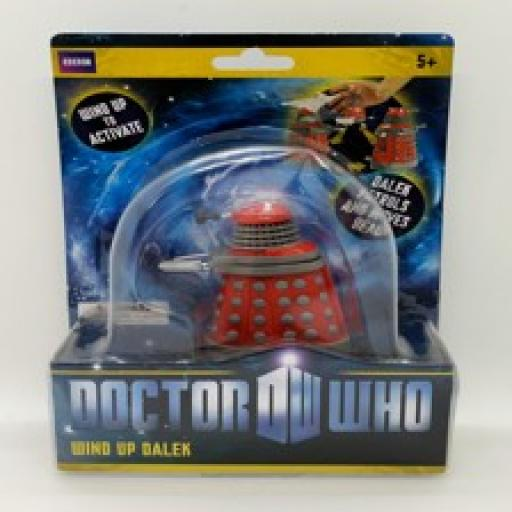dalek: (133, 188, 368, 364), (378, 93, 432, 174), (282, 101, 333, 166)
